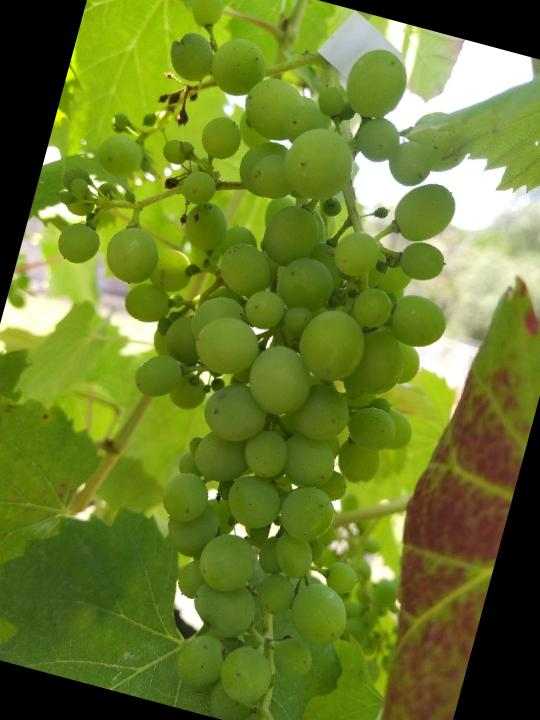grape: (0, 0, 515, 720)
